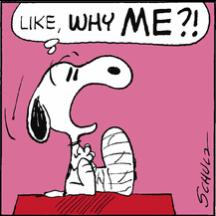snoopy: (25, 53, 137, 197)
